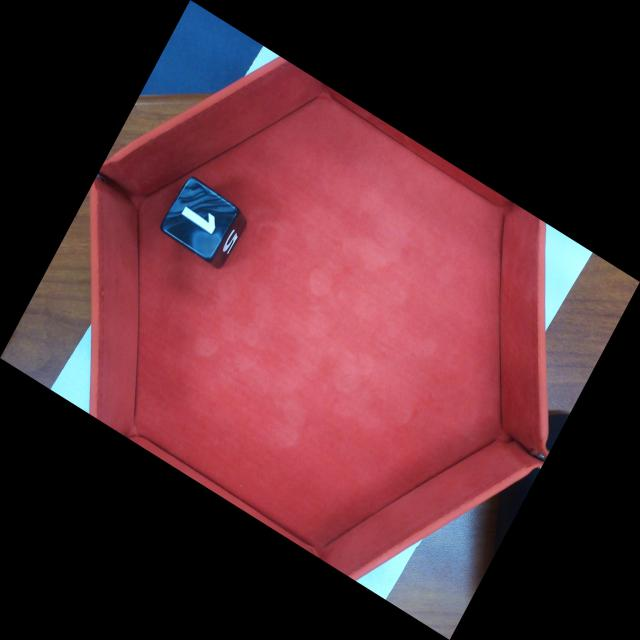dice: (167, 179, 241, 259)
